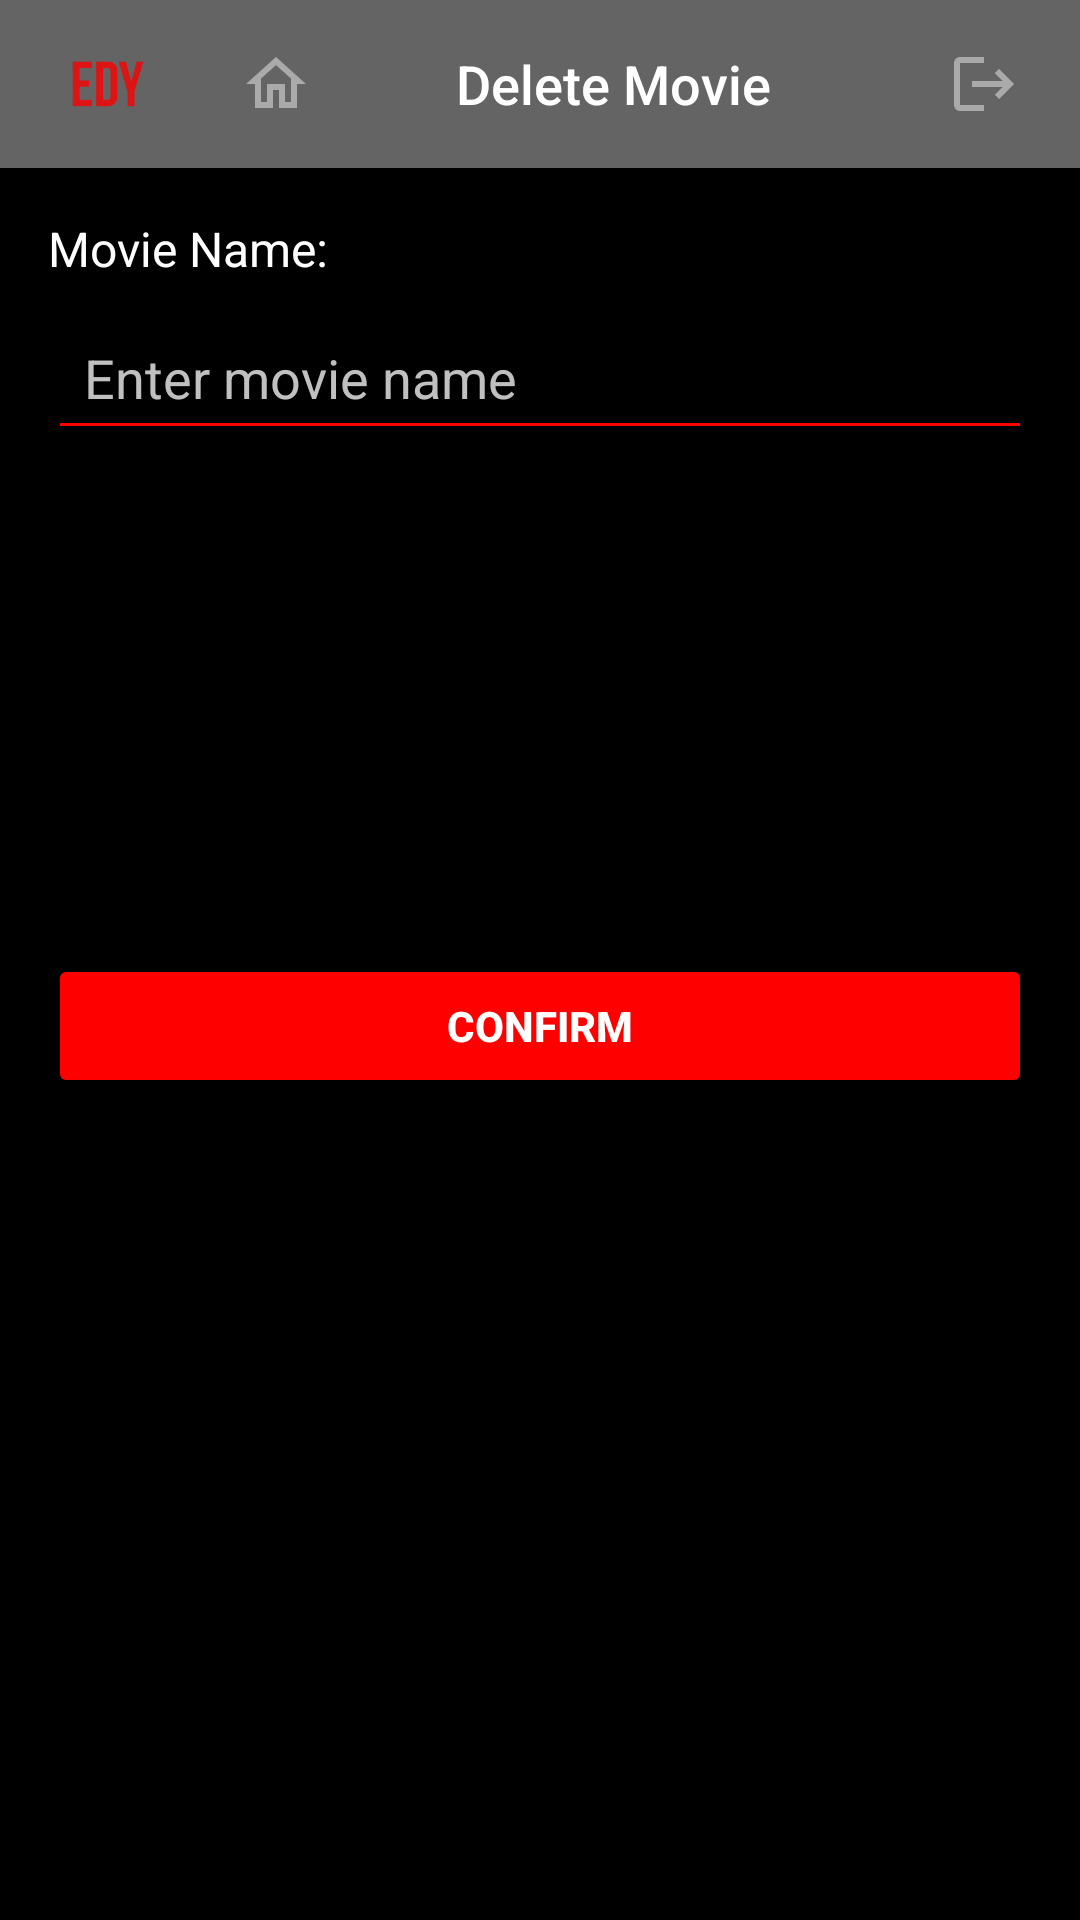

Where icons sit on this 1080×1920 app screen, as {"x1": x1, "y1": y1, "x2": x2, "y2": y2}:
Home Button: {"x1": 246, "y1": 57, "x2": 306, "y2": 108}
